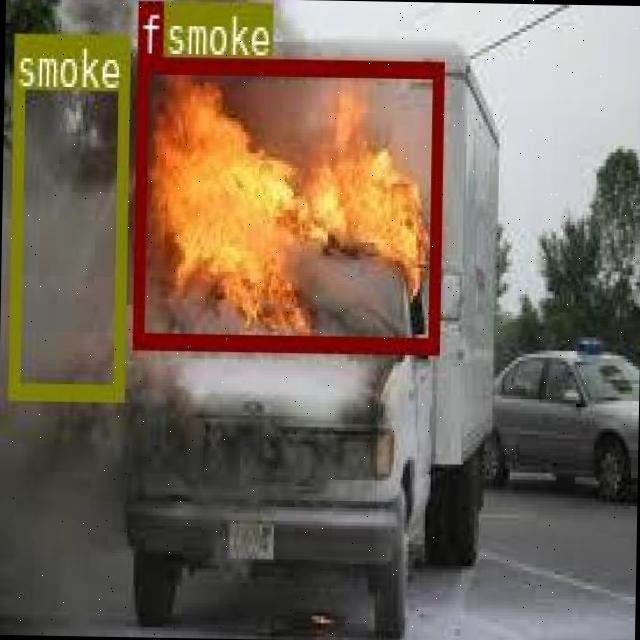fire: (132, 55, 442, 350)
smoke: (6, 32, 128, 396), (162, 0, 246, 42)
